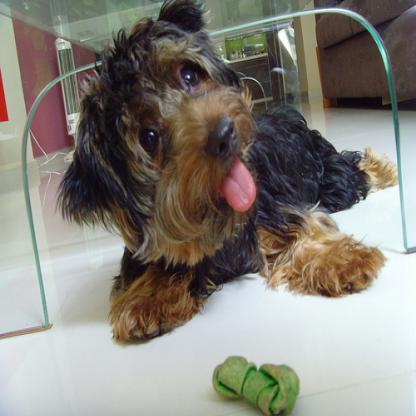dog: (56, 0, 398, 342)
sofa: (312, 0, 415, 103)
